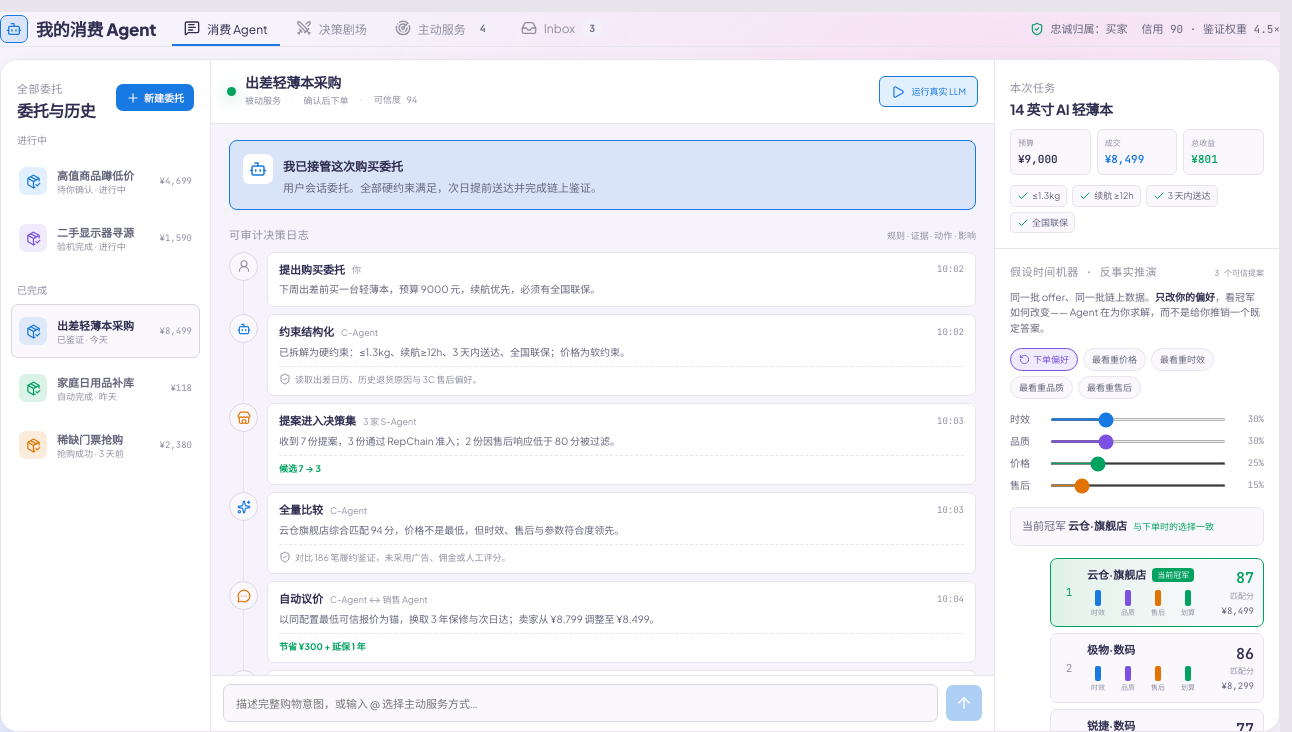
Test: 买家端演示工作台 › 家庭补库展示自主监测而不是购买确认
The width and height of the screenshot is (1292, 732).
Click the button "家庭日用品补库 自动完成 · 昨天 ¥118". click: click(106, 388)
box: [11,361,200,415]
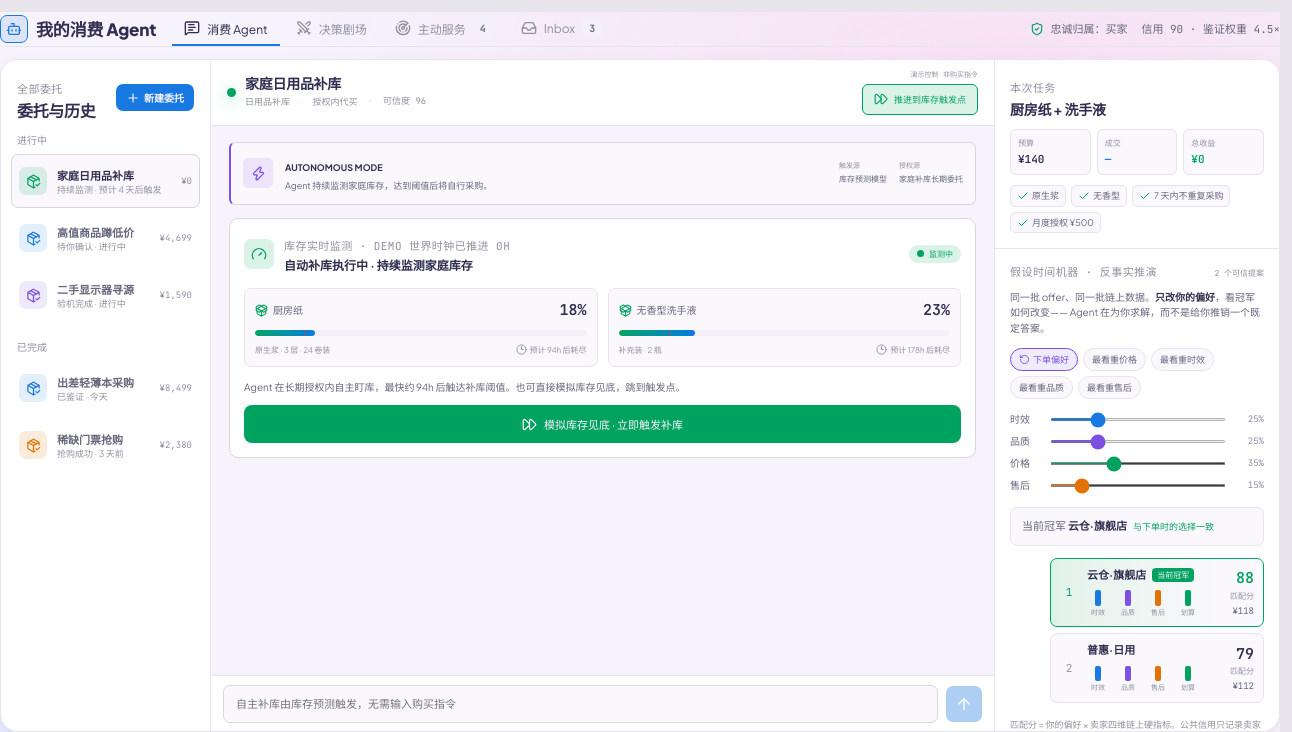
Check: the text "AUTONOMOUS MODE" is shown, box [285,162,383,172]
Check: the button "推进到库存触发点" is shown, box [862,84,978,114]
Check: the field named "向消费 Agent 描述需求" is disabled, box [223,684,938,722]
